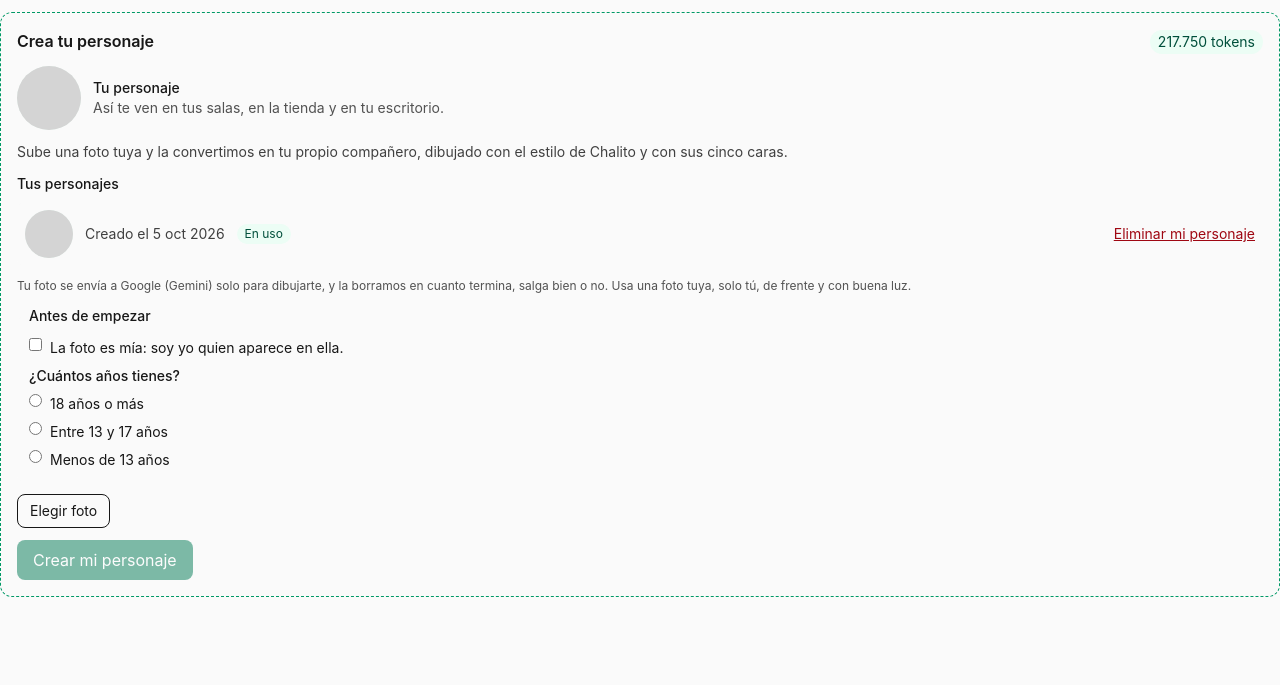
Test: Eliminar mi personaje › asks in the page first (no browser dialog); cancel keeps it; confirm deletes and the roster avatar comes back
The width and height of the screenshot is (1280, 685).
Expected: the list item with test id "kept-character" shows "En uso", [245,226,283,241]
Expected: the element with test id "create-character-current" is shown, [17,66,444,130]
Step 1. Click the button with test id "kept-character-delete" → (1184, 234), box [1114,224,1255,244]
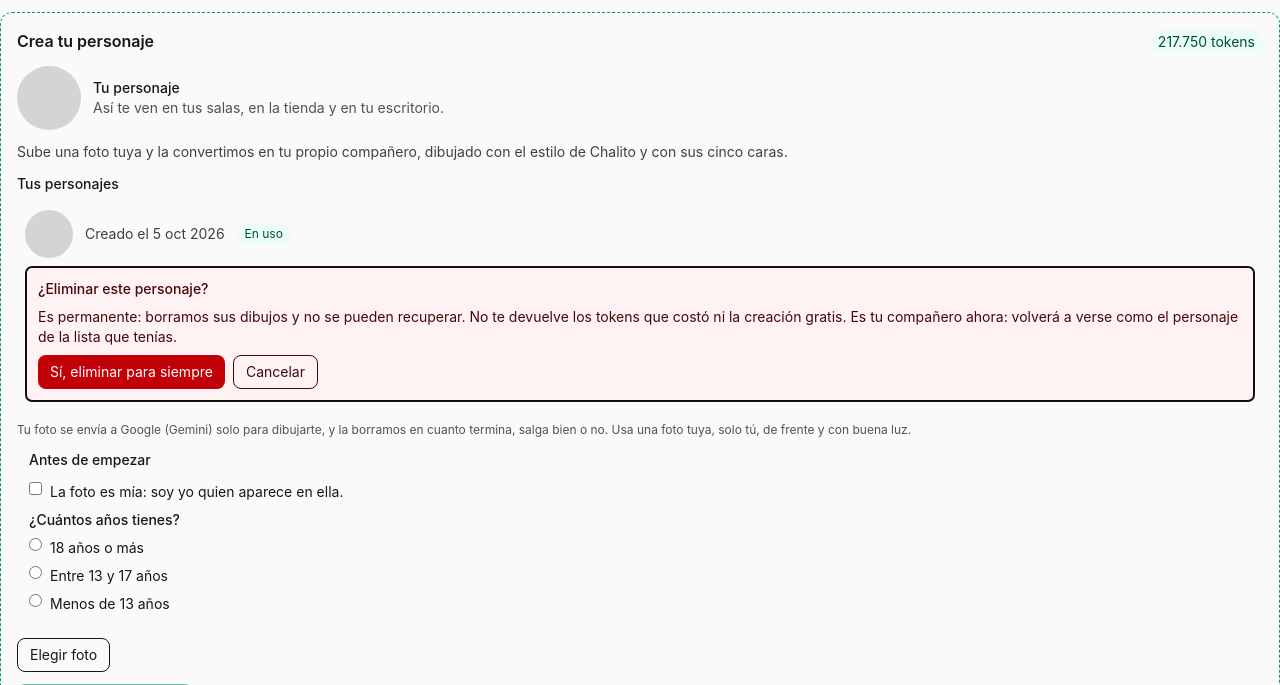
Now the element with test id "kept-character-confirm" shows "¿Eliminar este personaje?", box [38,280,208,297]
Now the element with test id "kept-character-confirm" shows "Es permanente", box [38,308,846,325]
Now the element with test id "kept-character-confirm" shows "borramos sus dibujos", box [38,308,846,325]
Step 2. Click the button with test id "kept-character-confirm-no" → (275, 372), box [233,355,318,389]
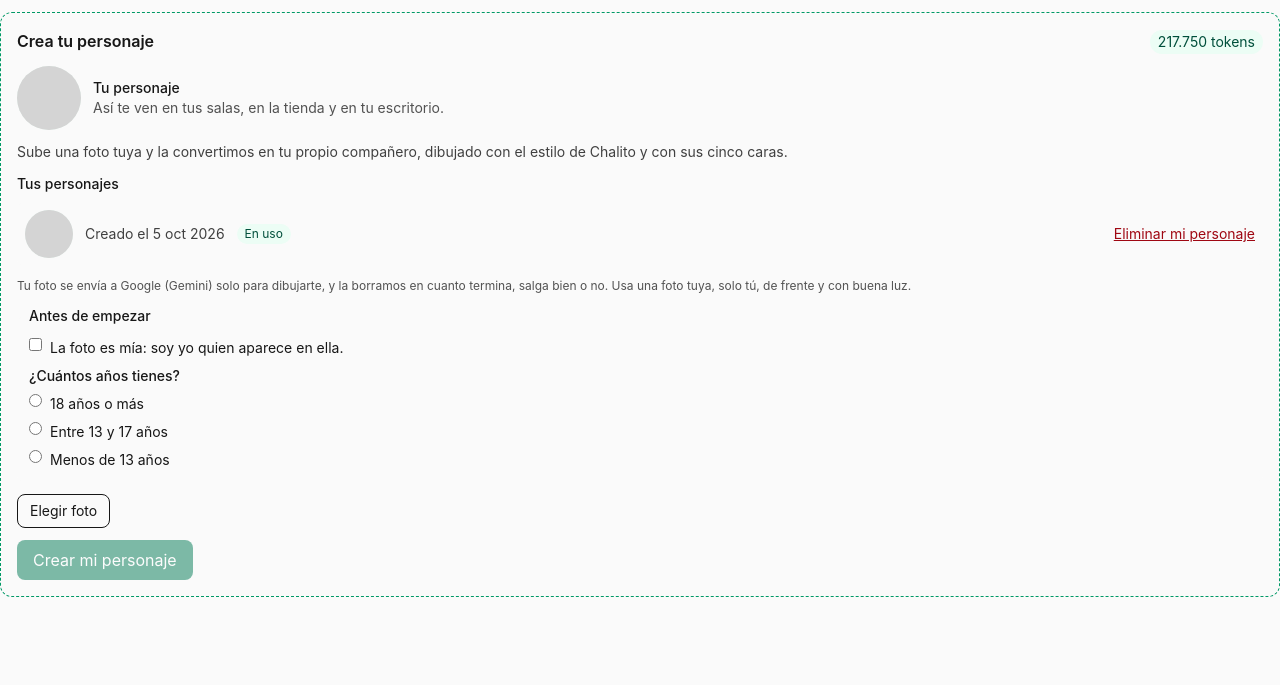
Now the element with test id "kept-character-confirm" is gone
Step 3. Click the button with test id "kept-character-delete" → (1184, 234), box [1114,224,1255,244]
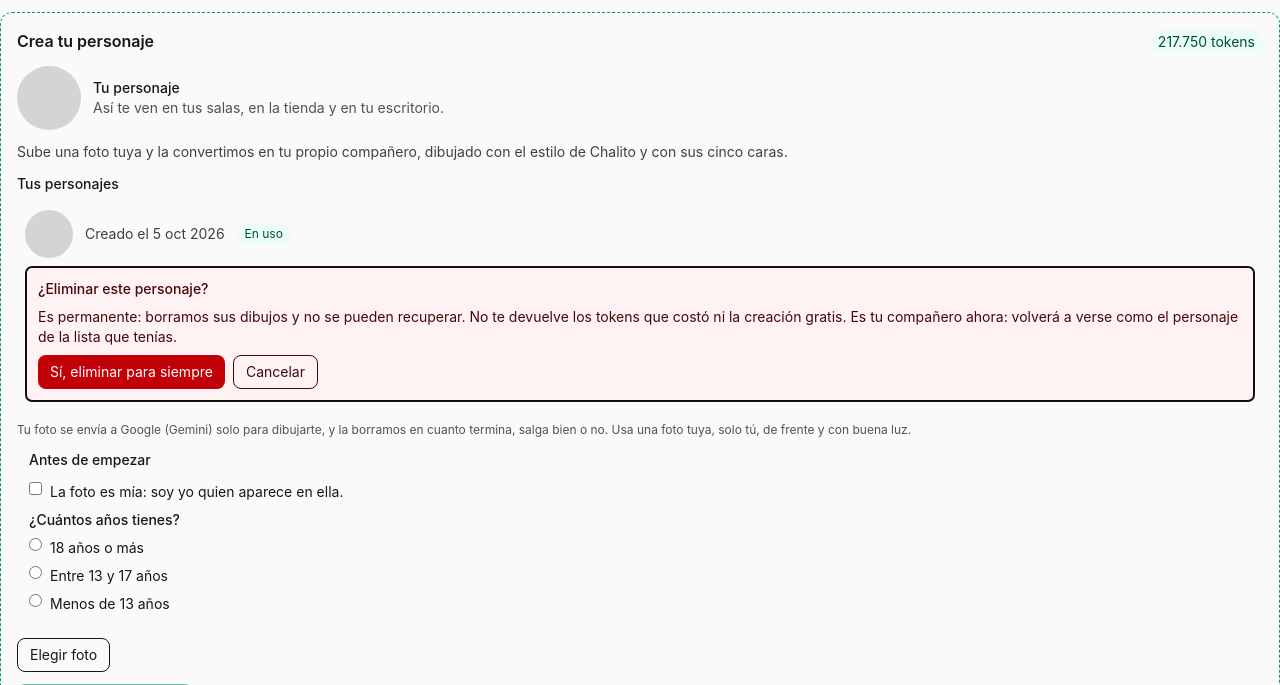
Step 4. Click the button with test id "kept-character-confirm-yes" → (131, 372), box [38,355,225,389]
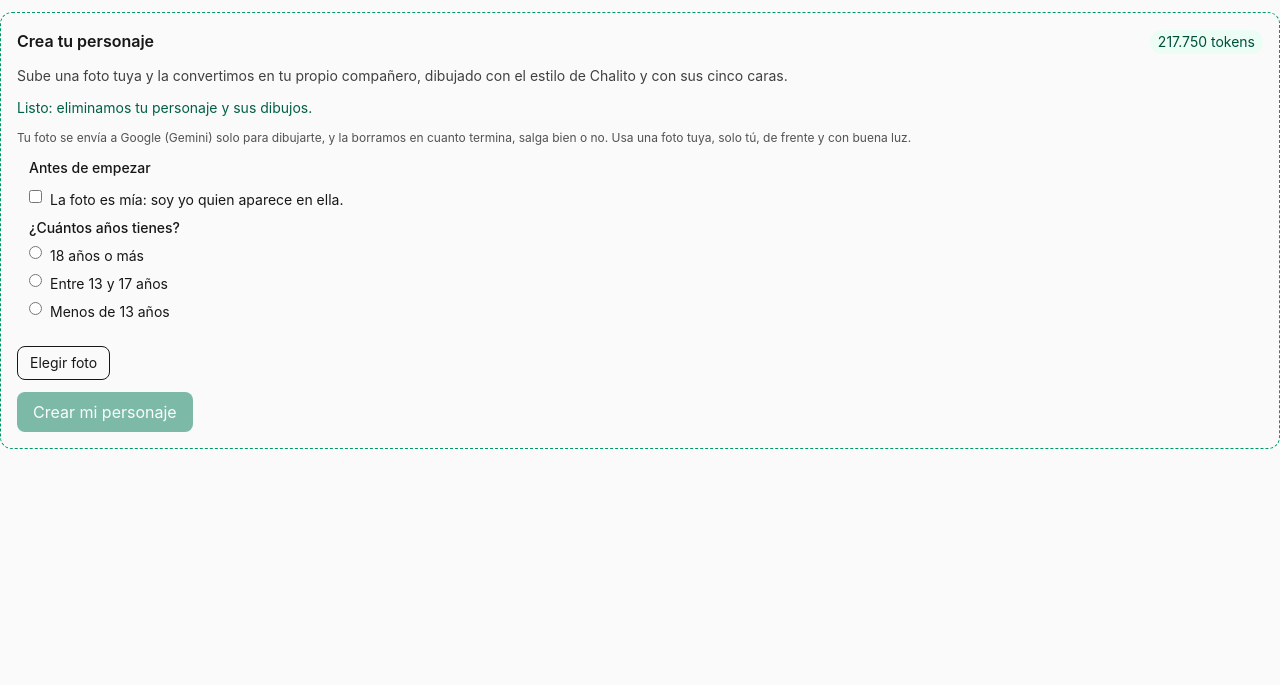
Now the message with test id "kept-character-note" shows "eliminamos tu personaje", box [17,99,312,116]
Now the element with test id "kept-characters" is gone
Now the element with test id "create-character-current" is gone
